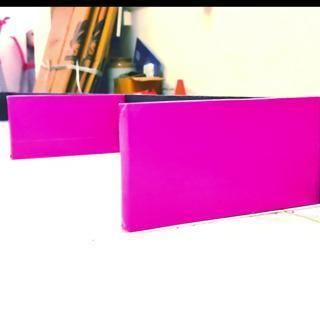xparking: (120, 102, 319, 213), (9, 96, 115, 154)
